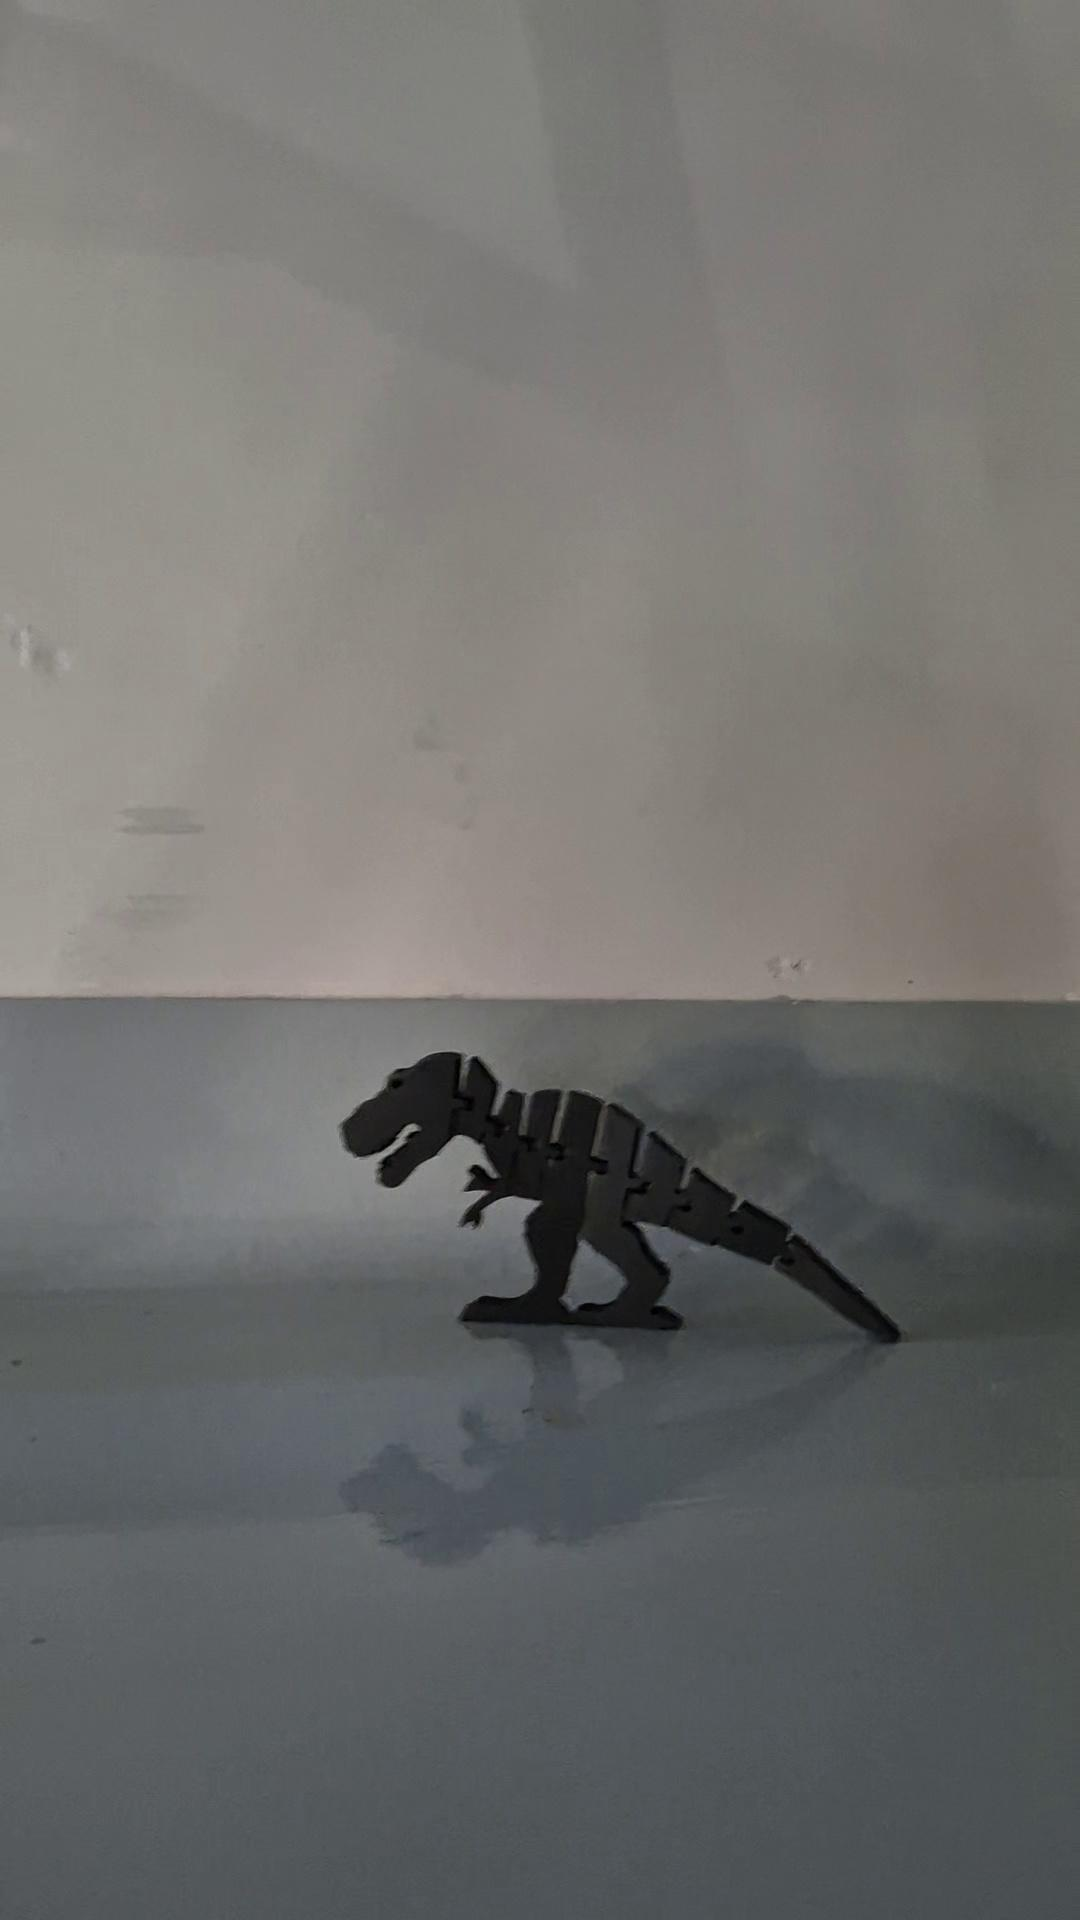dinosaur: (336, 1048, 903, 1347)
